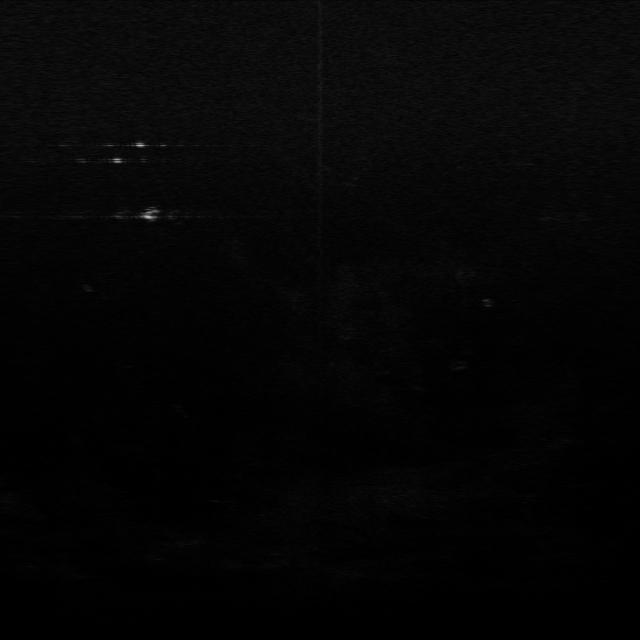rov: (132, 205, 167, 224)
